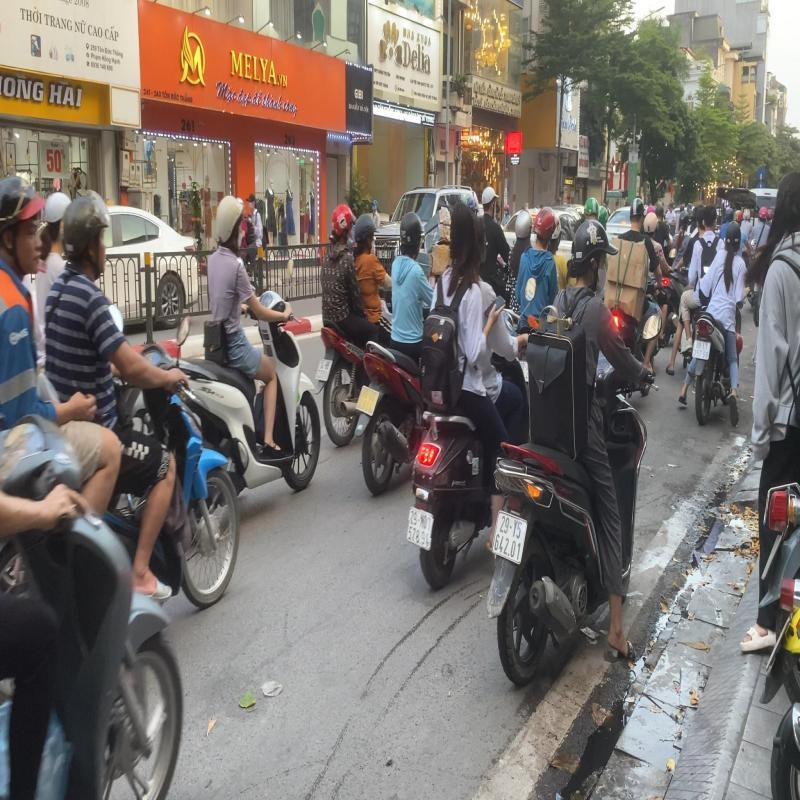licenseplate: (488, 506, 530, 568), (404, 503, 437, 554)
nohelmet: (443, 194, 480, 264)
